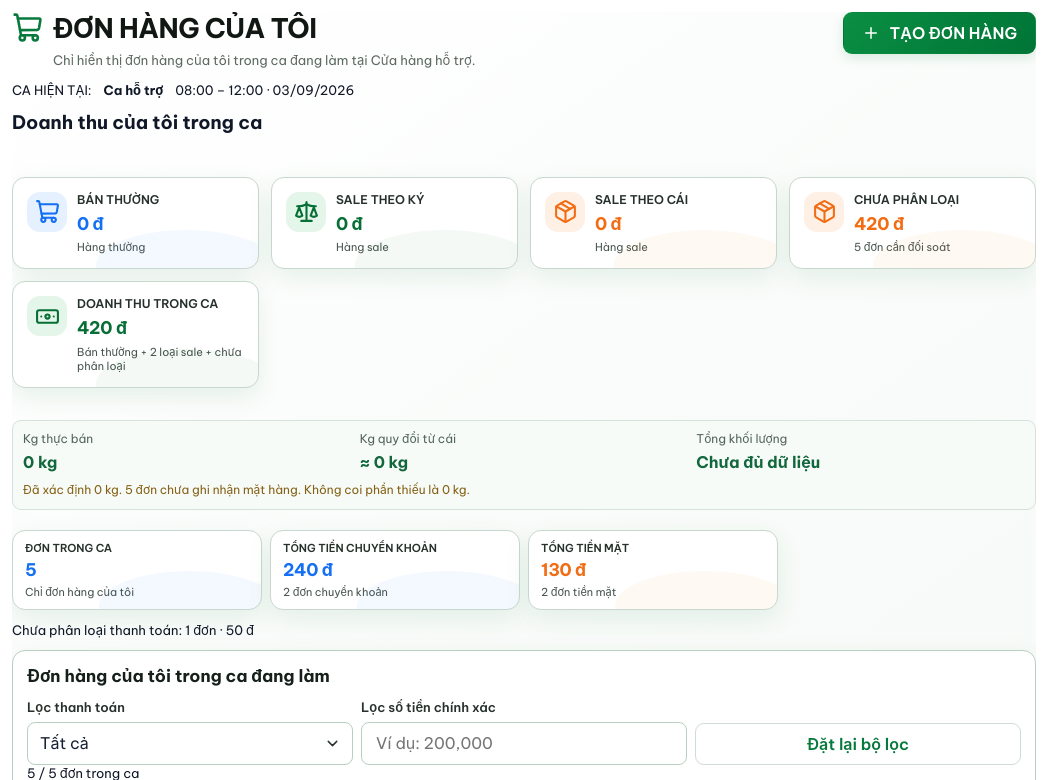
Test: employee order payment filter › filters only the employee open-support-shift rows and retains all-shift metrics
The image size is (1048, 780).
Expected: the text "5 / 5 đơn trong ca" is shown, x1=27 y1=765 x2=140 y2=779
Expected: the text "của tôi trong ca đang làm tại Cửa hàng hỗ trợ" is shown, x1=53 y1=52 x2=476 y2=68
Select "Tiền mặt" in the dropdown named "Lọc đơn hàng theo thanh toán": (179, 743) x1=40 y1=723 x2=318 y2=764
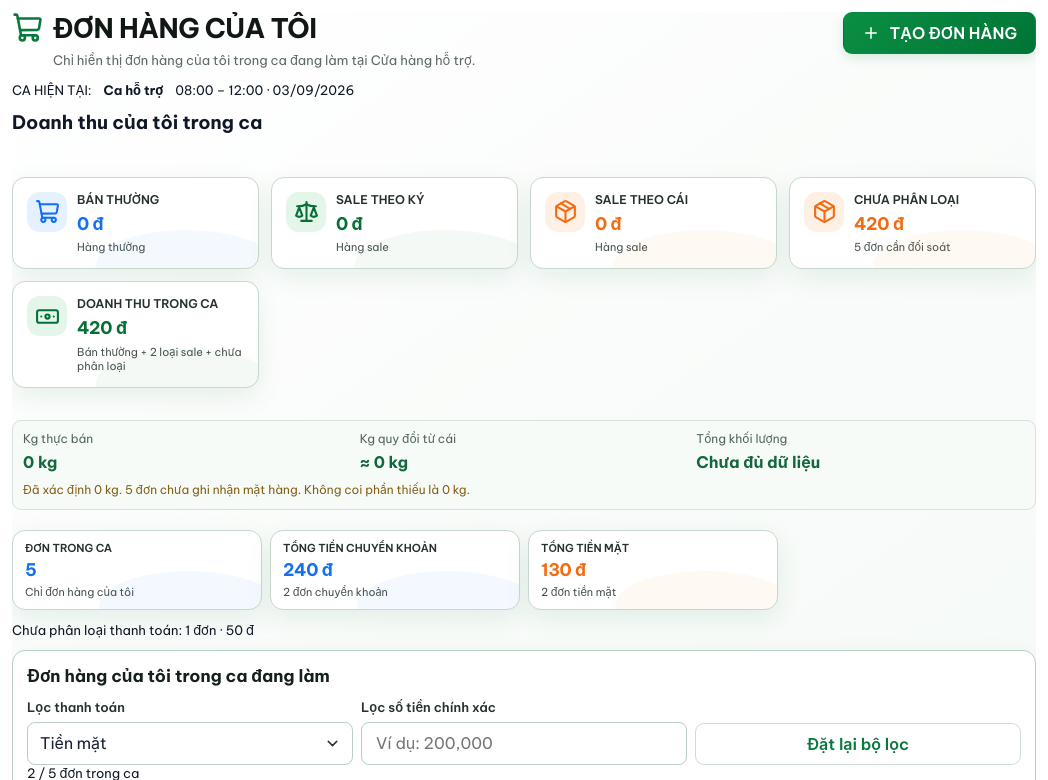
Expected: the text "2 / 5 đơn trong ca" is shown, x1=27 y1=765 x2=139 y2=779
Select "Chuyển khoản" in the dropdown named "Lọc đơn hàng theo thanh toán": (179, 743) x1=40 y1=723 x2=318 y2=764
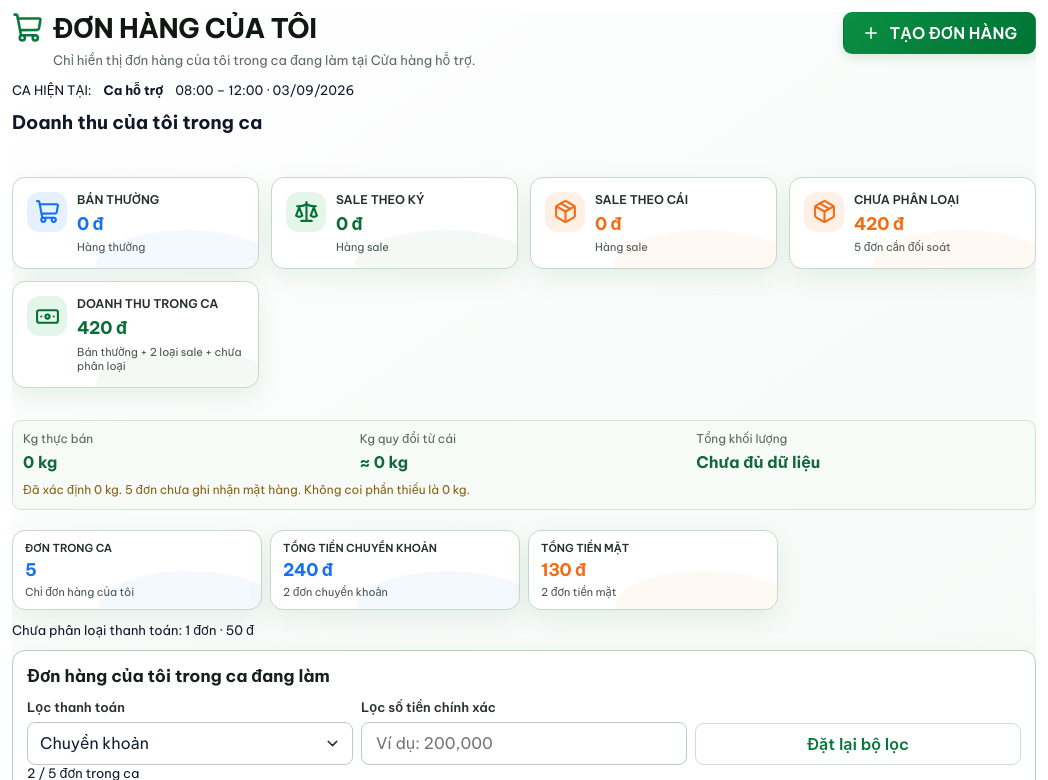
Expected: the text "5" is shown, x1=25 y1=560 x2=37 y2=582
Expected: the text "2 / 5 đơn trong ca" is shown, x1=27 y1=765 x2=139 y2=779
Select "Tất cả" in the dropdown named "Lọc đơn hàng theo thanh toán": (179, 743) x1=40 y1=723 x2=318 y2=764
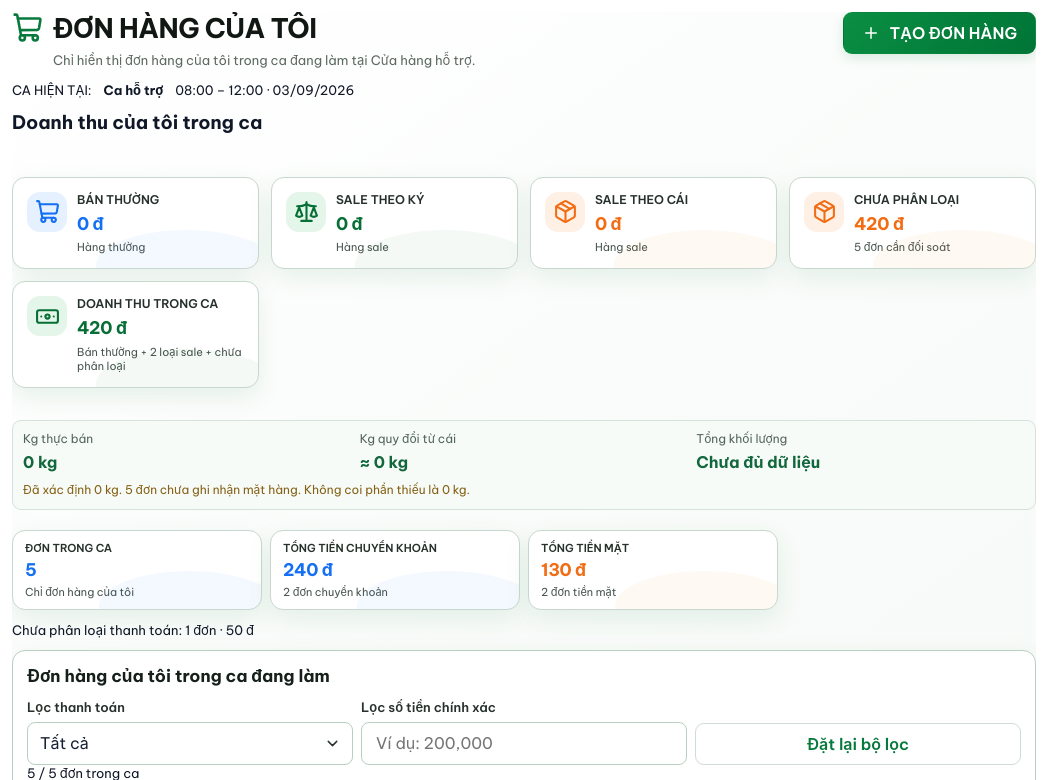
Expected: the text "5 / 5 đơn trong ca" is shown, x1=27 y1=765 x2=140 y2=779
